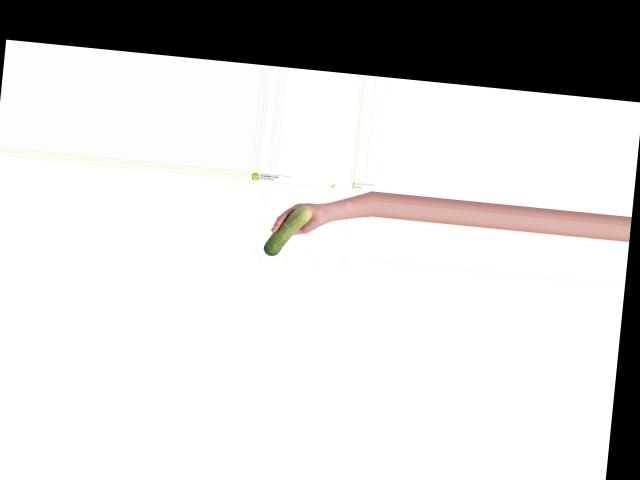cucumber: (264, 202, 313, 258)
